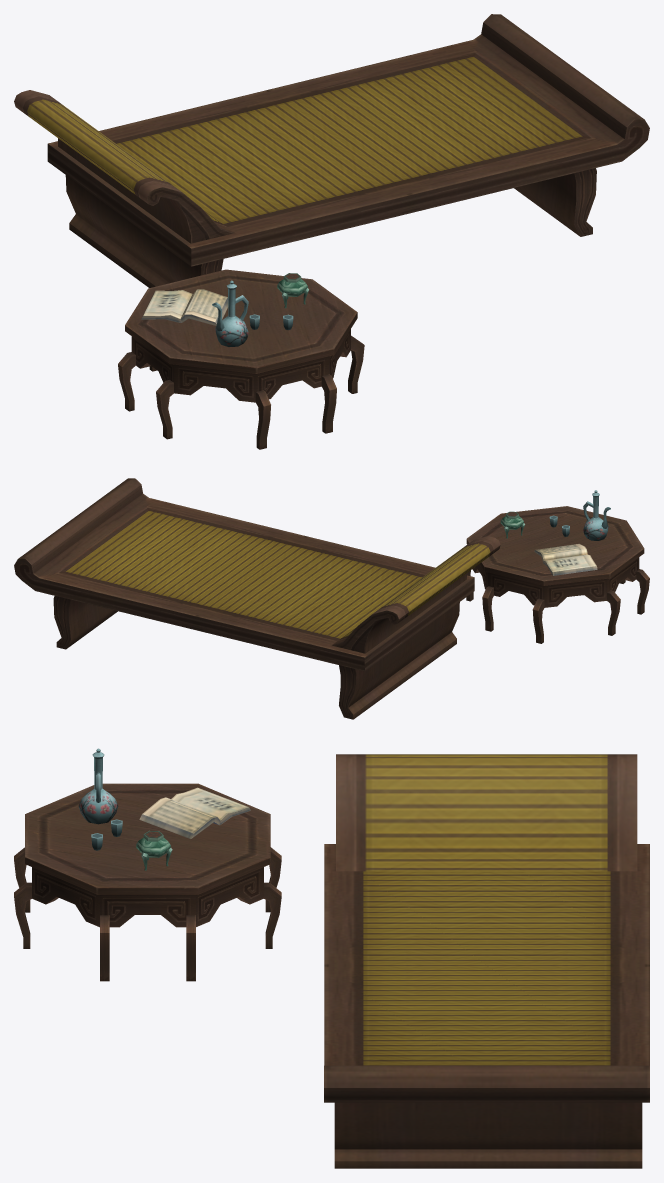
File: M5_P_chuangta1.FBX
3 views of the same model, one above another, from view 1: azimuth 30°, elevation 25°; view 2: azimuth 150°, elevation 25°; view 3: azimuth 270°, elevation 25° (orthographic). The views are drawn at different scales.
Parts seen in each view (by area): view 1: M5_P_chuangta01, M5_P_zhuozi01; view 2: M5_P_chuangta01, M5_P_zhuozi01; view 3: M5_P_chuangta01, M5_P_zhuozi01.
Boxes of the visible parts, x1,y1,x2,y2 form: M5_P_chuangta01: (14, 14, 649, 287); M5_P_zhuozi01: (118, 269, 364, 449); M5_P_chuangta01: (14, 478, 500, 719); M5_P_zhuozi01: (466, 490, 649, 643); M5_P_chuangta01: (324, 754, 649, 1168); M5_P_zhuozi01: (14, 748, 281, 981).
Bounding box in the file's own units: 293 × 72.13 × 242.
